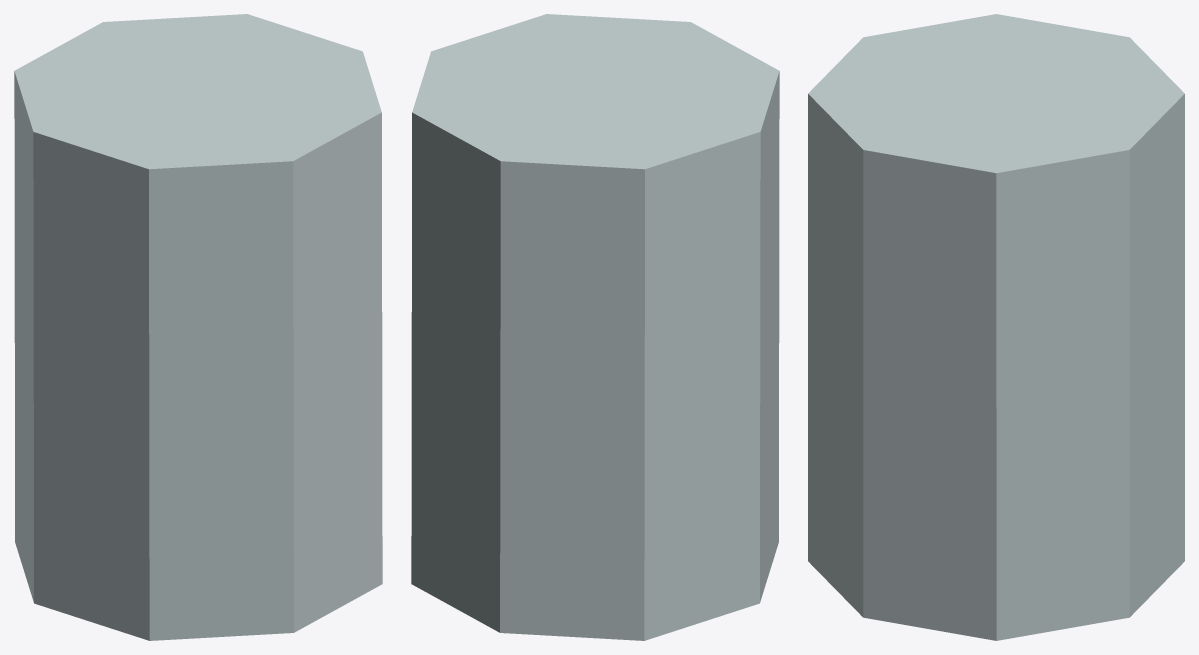
File: Itr_Obj_Dispenser_Sauce_02.FBX
The picture shows the model from 3 angles, left to right: view 1: azimuth 30°, elevation 25°; view 2: azimuth 150°, elevation 25°; view 3: azimuth 270°, elevation 25°; orthographic projection.
Parts seen in each view (by area): view 1: Itr_Obj_Dispenser_Sauce_02; view 2: Itr_Obj_Dispenser_Sauce_02; view 3: Itr_Obj_Dispenser_Sauce_02.
Part boxes in pixels (x1,y1,x2,y2): Itr_Obj_Dispenser_Sauce_02: (14,14,382,640); Itr_Obj_Dispenser_Sauce_02: (411,14,779,640); Itr_Obj_Dispenser_Sauce_02: (808,14,1184,640).
Bounding box in the file's own units: 3.78 × 5.16 × 3.77.
